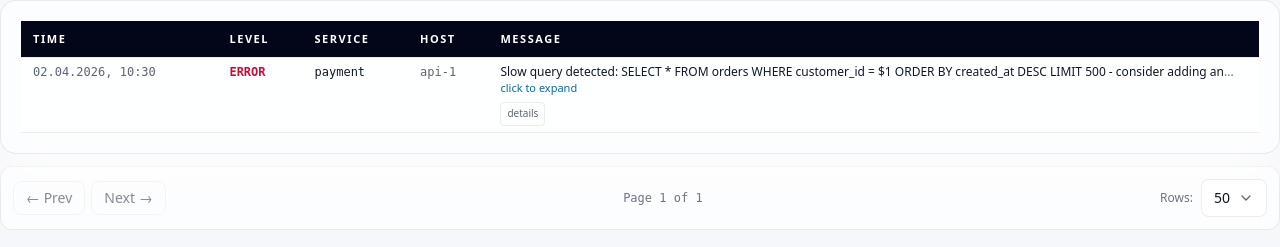
LogTable: message wrapping › wraps the expanded message at word boundaries, not mid-word
Step 1. Click the row that starts with "error" → (640, 95), box [21,57,1259,132]
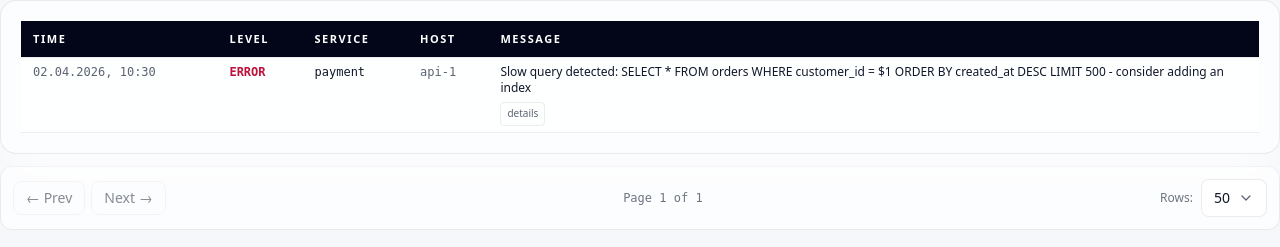
Result: the text "Slow query detected: SELECT * FROM orders WHERE customer_id = $1 ORDER BY created_at DESC LIMIT 500 - consider adding an" has class "whitespace-pre-wrap" at [500,63,1227,96]
Result: the text "Slow query detected: SELECT * FROM orders WHERE customer_id = $1 ORDER BY created_at DESC LIMIT 500 - consider adding an" has class "break-words" at [500,63,1227,96]
Result: the text "Slow query detected: SELECT * FROM orders WHERE customer_id = $1 ORDER BY created_at DESC LIMIT 500 - consider adding an" has class "[overflow-wrap:anywhere]" at [500,63,1227,96]
